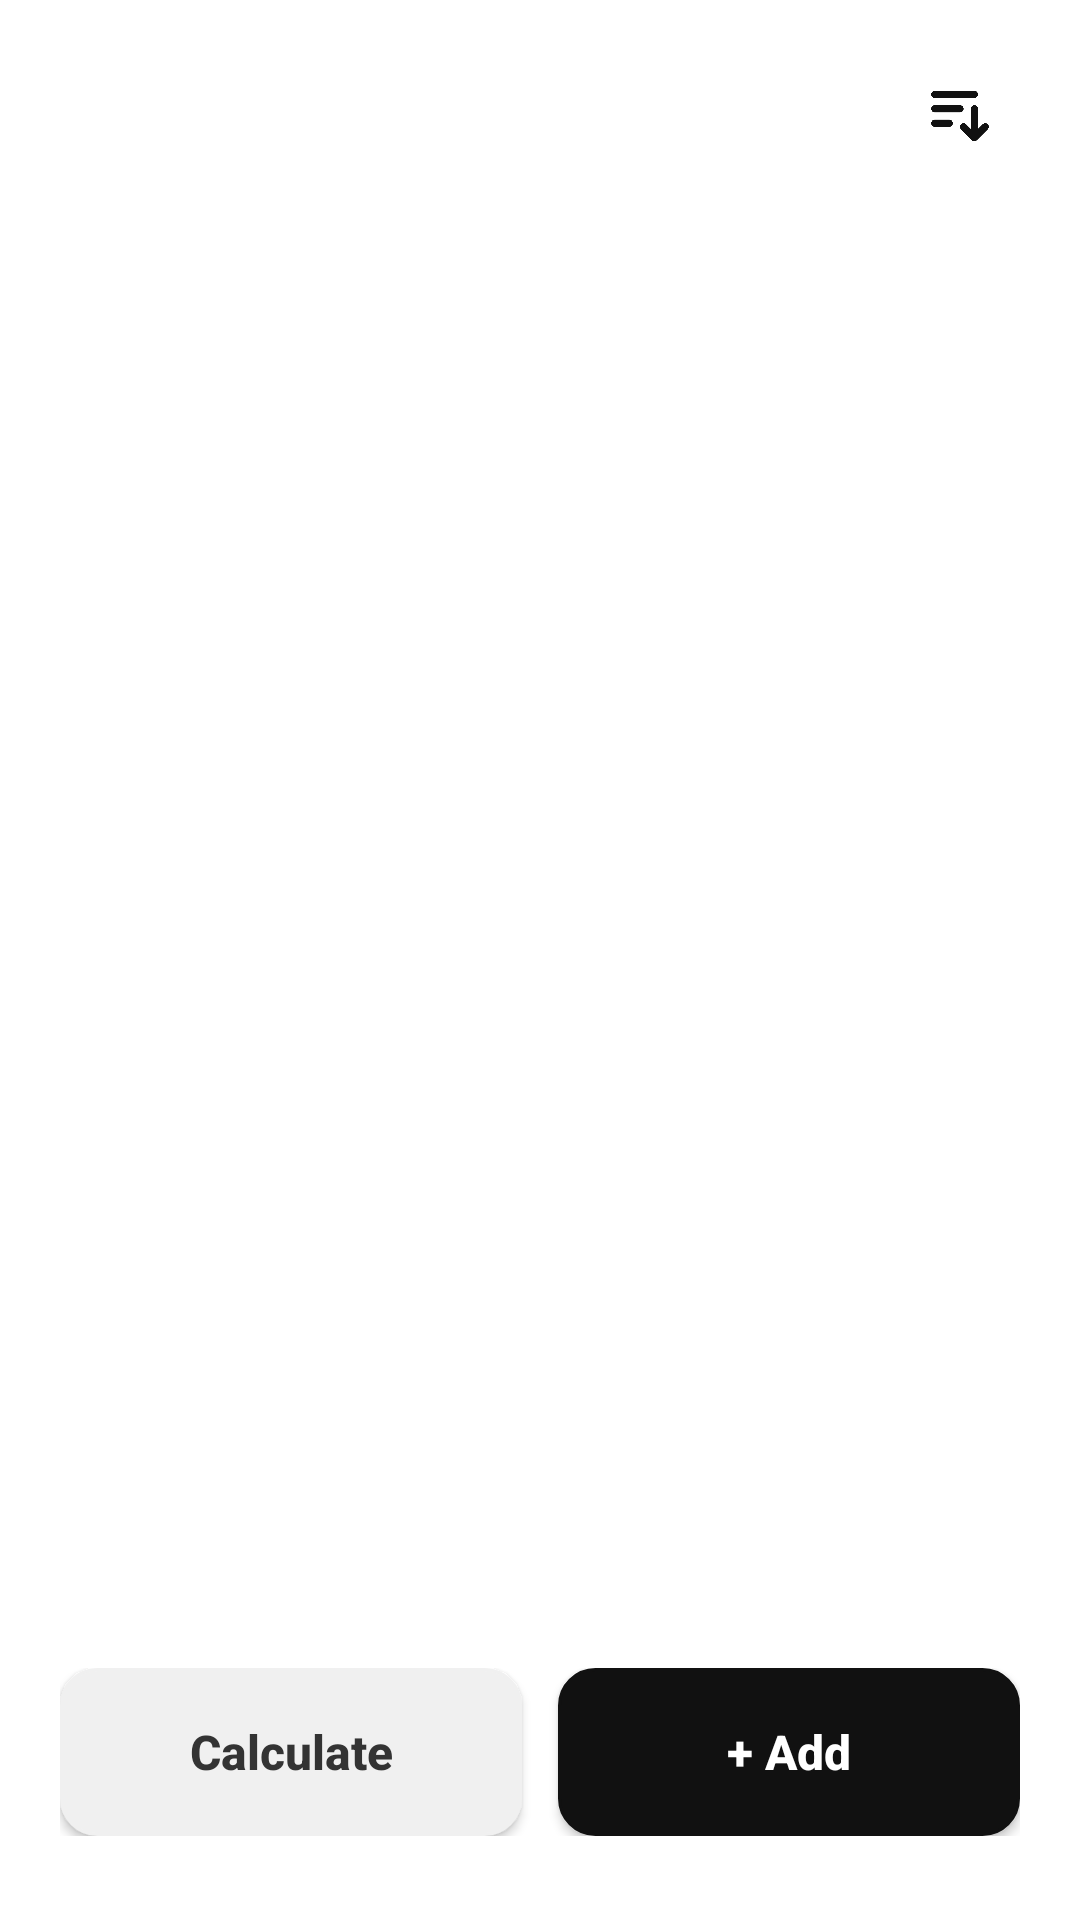

Locate icon controls on the screen. Image size 1080*1920, boxes as {"left": x1, "top": y1, "right": x2, "bottom": y2}.
sort: {"left": 931, "top": 91, "right": 989, "bottom": 141}
